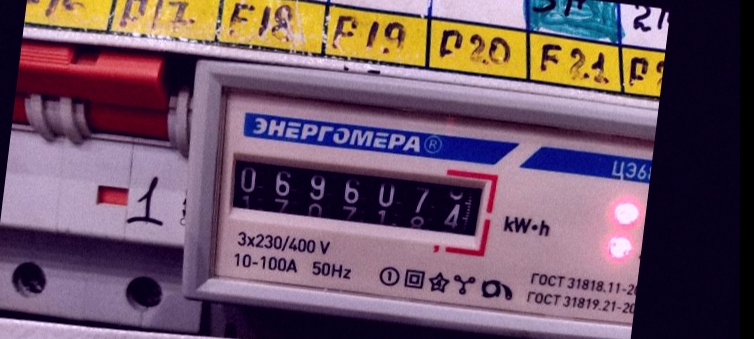0: (375, 177, 397, 209), (237, 163, 258, 193)
4: (442, 200, 461, 229)
6: (340, 174, 362, 205), (272, 166, 294, 196)
7: (410, 183, 431, 215)
9: (306, 171, 327, 201)
screen: (211, 133, 504, 256)
